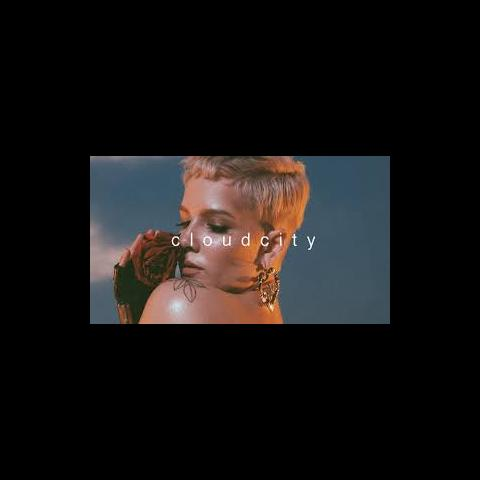closed: (170, 202, 244, 239)
